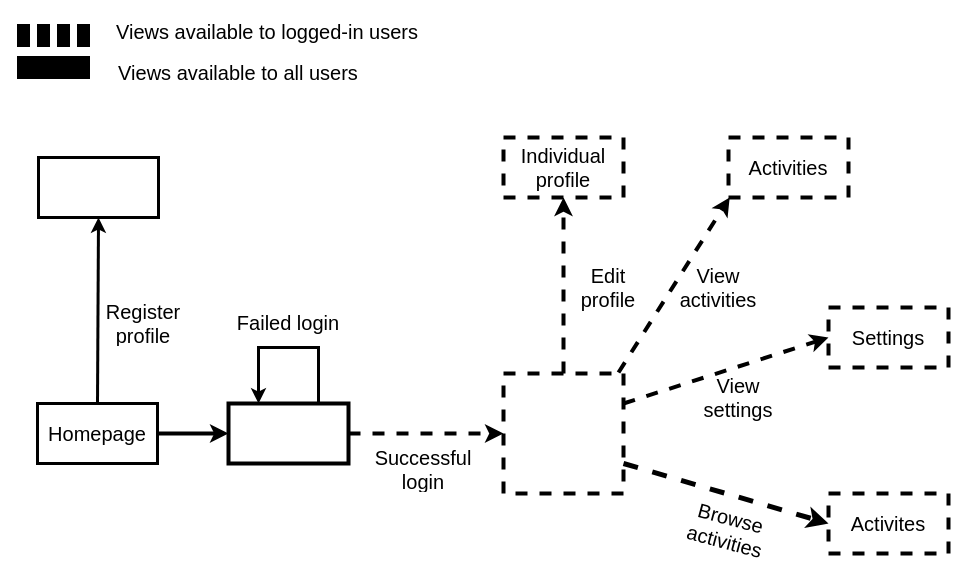
Image size: 968x580. Some labels were removed from this diagram. The box of each missing label's shape, as (x1, y1, x2, y2) in pixels:
Dashboard: (501, 371, 625, 495)
Log In: (226, 401, 350, 465)
Register: (36, 156, 160, 218)
